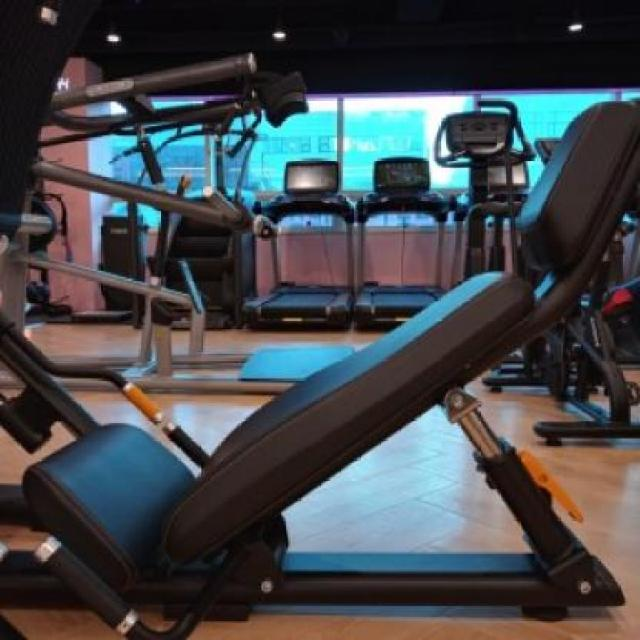leg press: (3, 4, 640, 640)
